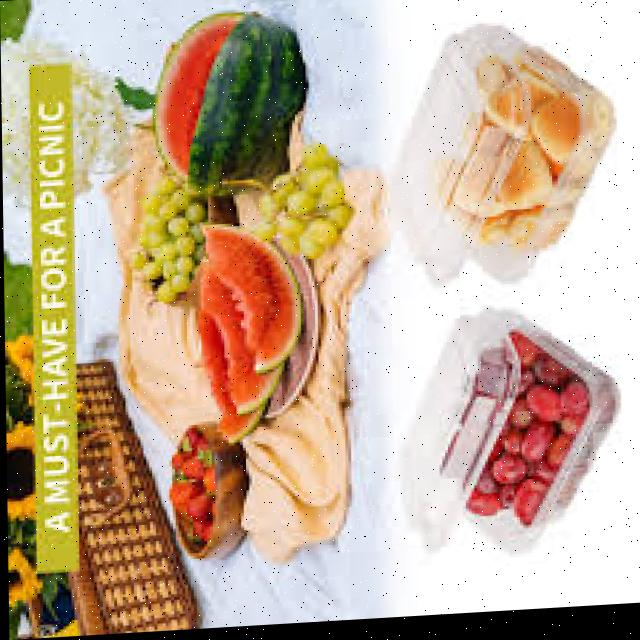disposable: (364, 22, 625, 298), (387, 305, 628, 576)
